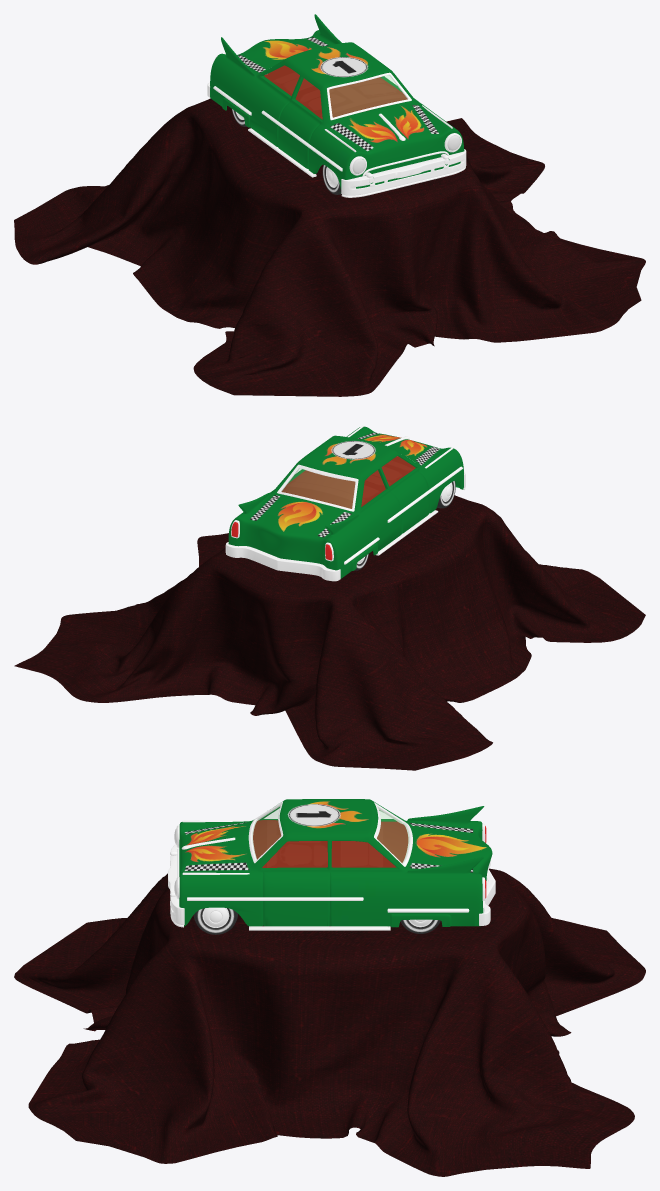
File: fast-toy_car.glb
3 renders of one model, top to bottom at view 1: azimuth 30°, elevation 25°; view 2: azimuth 150°, elevation 25°; view 3: azimuth 270°, elevation 25°, orthographic. The views are drawn at different scales.
Parts seen in each view (by area): view 1: Fabric, ToyCar, Glass; view 2: Fabric, ToyCar, Glass; view 3: Fabric, ToyCar, Glass.
Boxes of the visible parts, left/top/right/bottom form: Fabric: left=14, top=98, right=645, bottom=396; ToyCar: left=207, top=14, right=466, bottom=197; Glass: left=329, top=75, right=407, bottom=116; Fabric: left=14, top=495, right=645, bottom=770; ToyCar: left=225, top=425, right=465, bottom=581; Glass: left=282, top=468, right=354, bottom=508; Fabric: left=14, top=868, right=645, bottom=1176; ToyCar: left=168, top=799, right=495, bottom=934; Glass: left=252, top=806, right=409, bottom=862.
Bounding box in the file's own units: 0.0734 × 0.0288 × 0.074.
Materials: 3 (2 with a texture image).
